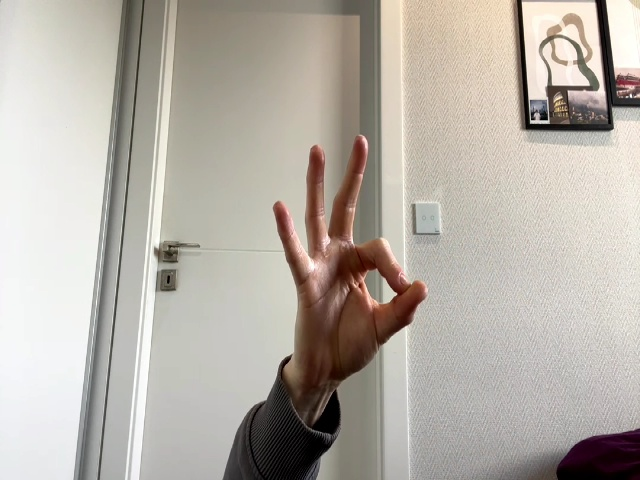O: (273, 135, 426, 378)
